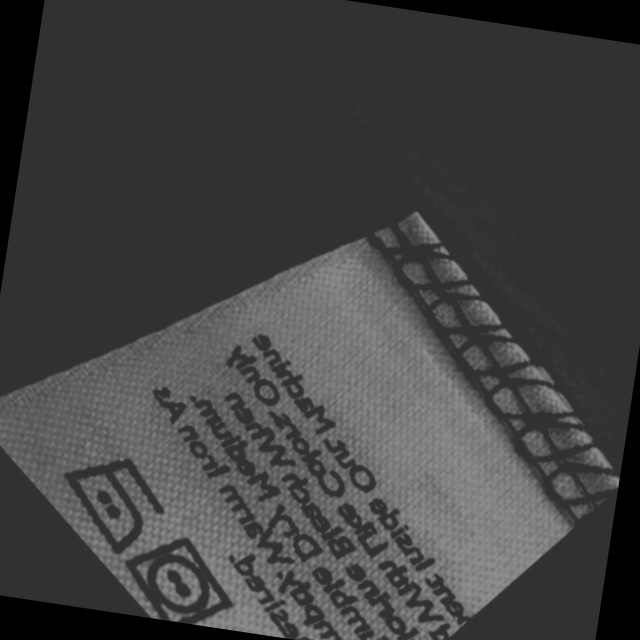iron_medium: (46, 445, 173, 561)
tumble_dry_medium: (113, 527, 241, 630)
